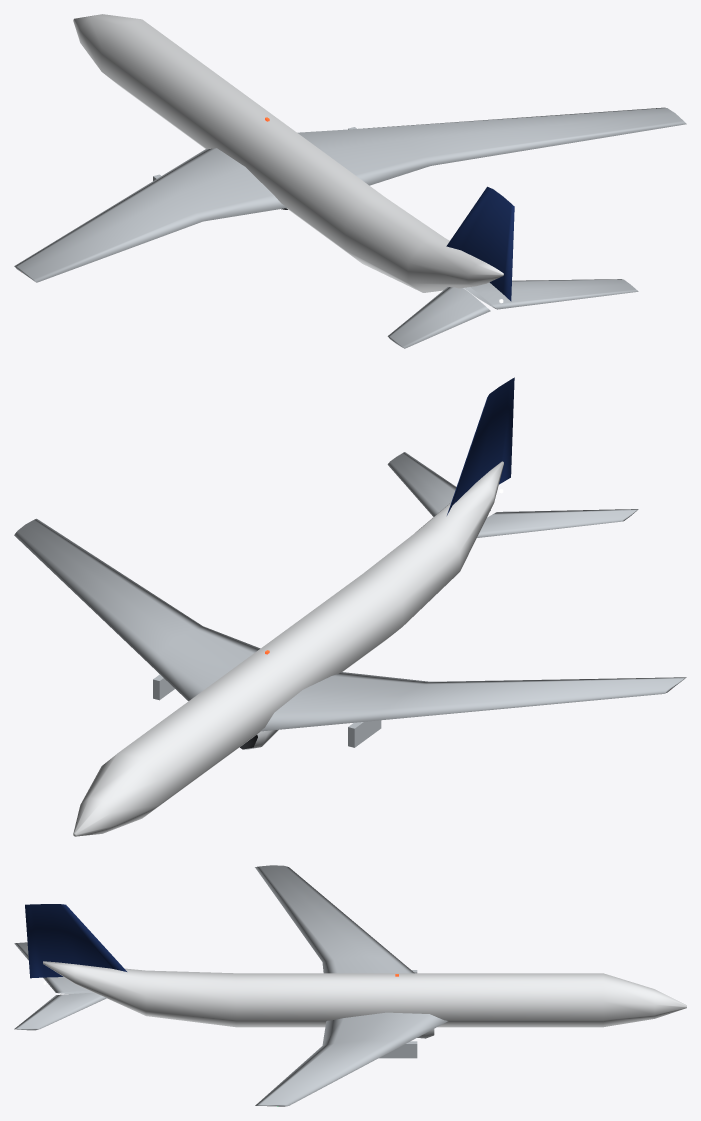
3 renders of one model, top to bottom at view 1: azimuth 30°, elevation 25°; view 2: azimuth 150°, elevation 25°; view 3: azimuth 270°, elevation 25°, orthographic. The views are drawn at different scales.
Visible parts, largest first — view 1: b77w_lod2_wing, b77w_lod2_white, b77w_lod2_blue; view 2: b77w_lod2_white, b77w_lod2_wing, b77w_lod2_blue; view 3: b77w_lod2_white, b77w_lod2_wing, b77w_lod2_blue.
Boxes of the visible parts, x1,y1,x2,y2 form: b77w_lod2_wing: (14,107,686,348); b77w_lod2_white: (73,14,503,292); b77w_lod2_blue: (446,186,514,301); b77w_lod2_white: (73,461,503,836); b77w_lod2_wing: (14,452,686,747); b77w_lod2_blue: (447,377,514,515); b77w_lod2_white: (43,961,686,1027); b77w_lod2_wing: (14,865,447,1106); b77w_lod2_blue: (25,904,126,978).
Size of the model in its own units: 64.8 by 16.87 by 77.19.
